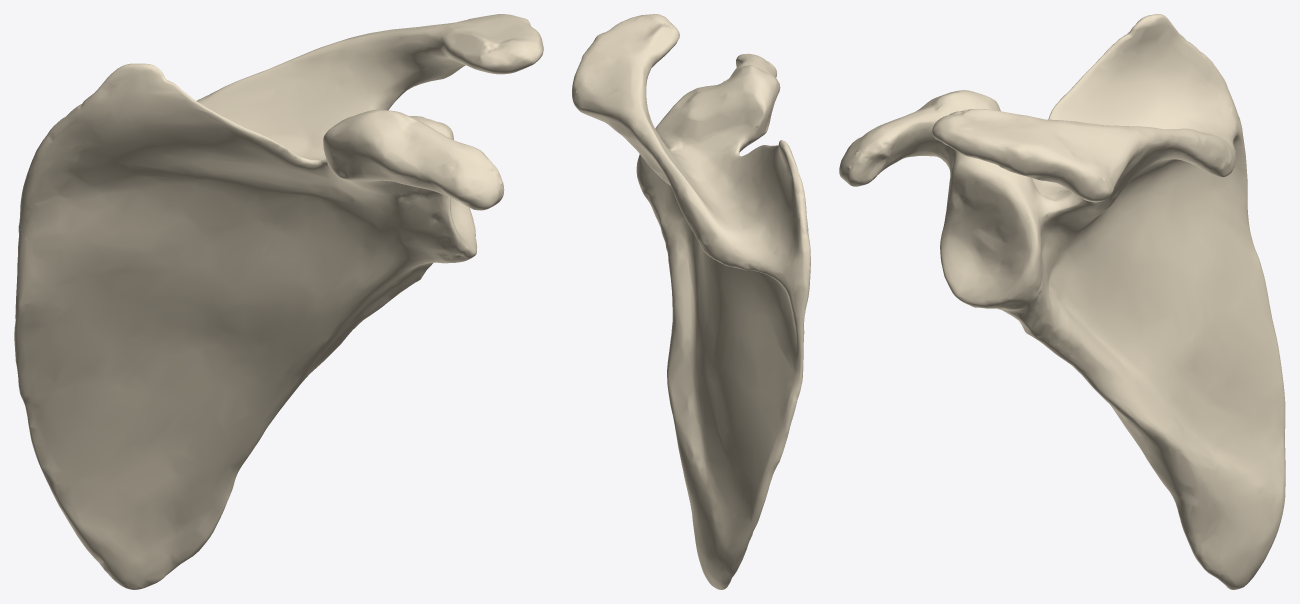
The model's file is scapula-l.glb.
3 renders of one model, left to right at view 1: azimuth 30°, elevation 25°; view 2: azimuth 150°, elevation 25°; view 3: azimuth 270°, elevation 25°, orthographic. The views are drawn at different scales.
Visible parts, largest first — view 1: Scapula.l; view 2: Scapula.l; view 3: Scapula.l.
Part boxes in pixels (bbox=[...]): Scapula.l: bbox=[14, 14, 543, 589]; Scapula.l: bbox=[572, 14, 810, 589]; Scapula.l: bbox=[839, 14, 1285, 589].
Bounding box in the file's own units: 0.113 × 0.1636 × 0.1141.
